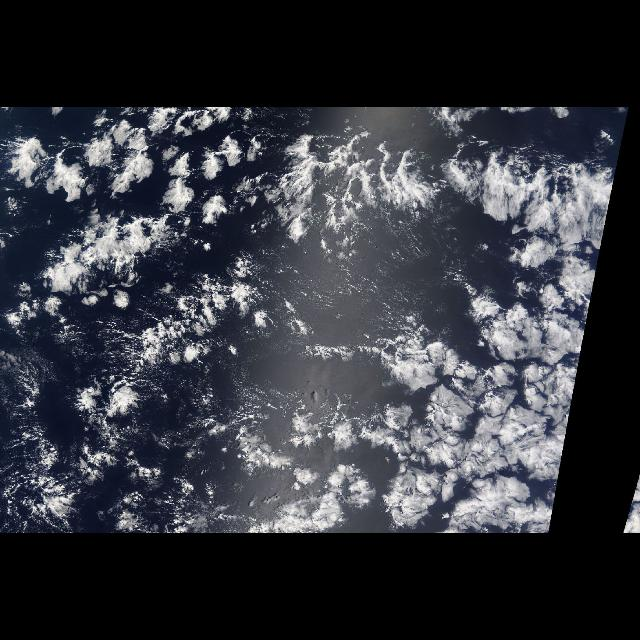Flower: (358, 265, 598, 533), (4, 129, 298, 261)
